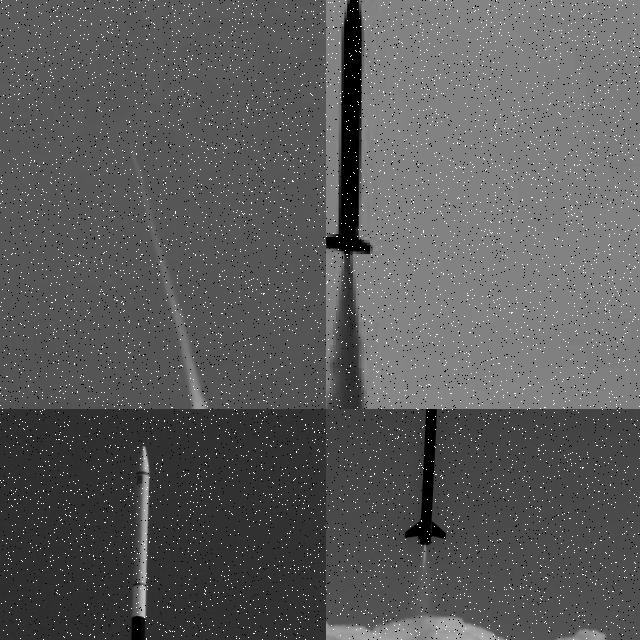Rocket: (326, 0, 376, 261), (111, 444, 161, 640), (403, 409, 448, 545), (131, 144, 135, 154)
